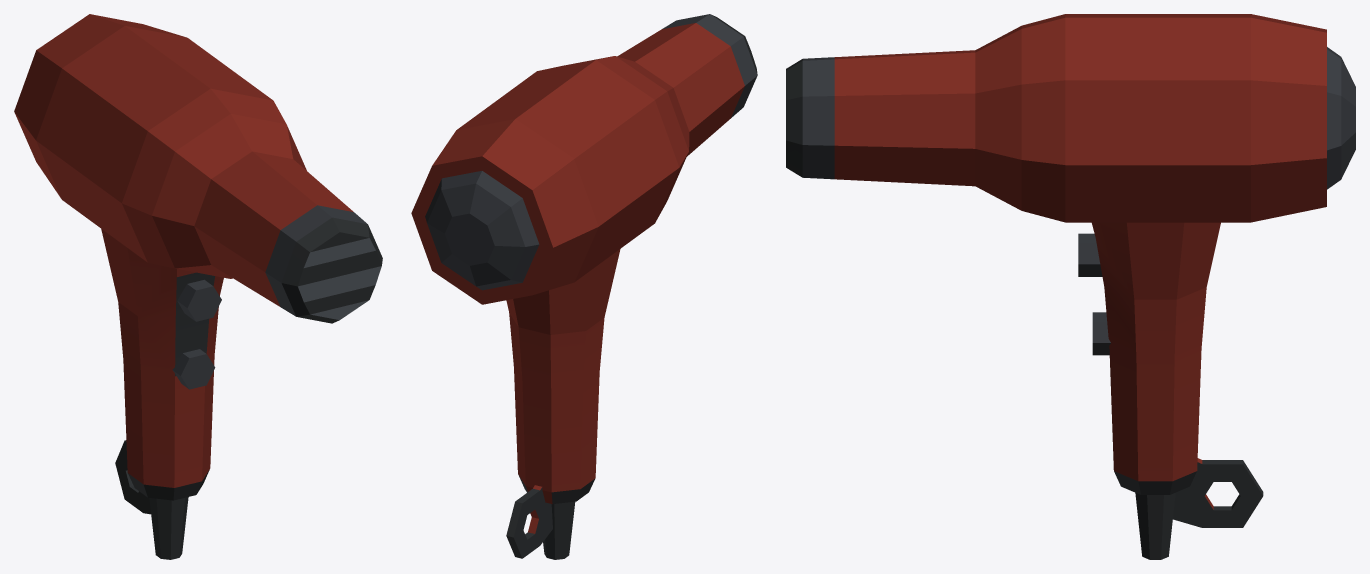
File: SM_Prop_Barber_Hair_Dryer_01.obj
3 renders of one model, left to right at view 1: azimuth 30°, elevation 25°; view 2: azimuth 150°, elevation 25°; view 3: azimuth 270°, elevation 25°, orthographic. The views are drawn at different scales.
Parts seen in each view (by area): view 1: SM_Prop_Barber_Hair_Dryer_01_0; view 2: SM_Prop_Barber_Hair_Dryer_01_0; view 3: SM_Prop_Barber_Hair_Dryer_01_0.
Boxes of the visible parts, <box> form: SM_Prop_Barber_Hair_Dryer_01_0: <box>14,14,382,559</box>; SM_Prop_Barber_Hair_Dryer_01_0: <box>411,14,757,559</box>; SM_Prop_Barber_Hair_Dryer_01_0: <box>786,14,1355,559</box>.
Bounding box in the file's own units: 0.13 × 0.3469 × 0.3339.
Materials: 1 (1 with a texture image).
